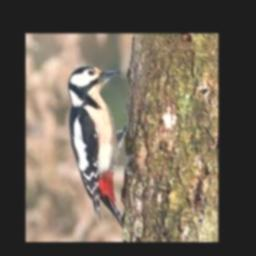Woodpecker: (69, 65, 139, 227)
